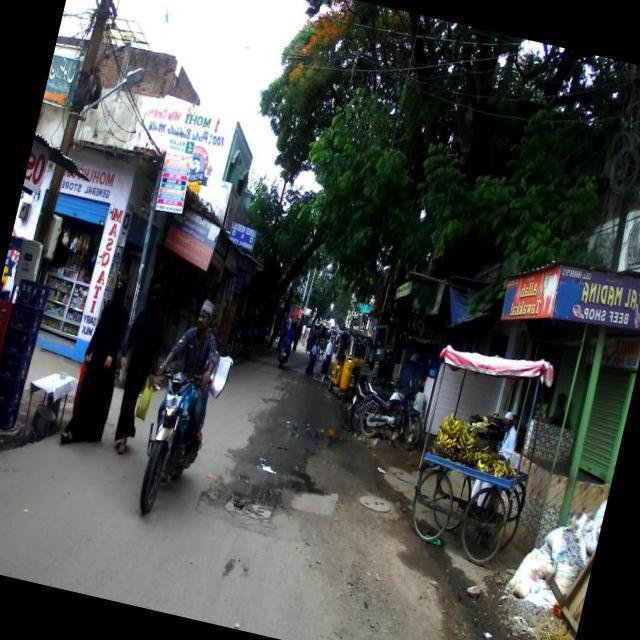Pothole: (346, 472, 402, 547)
